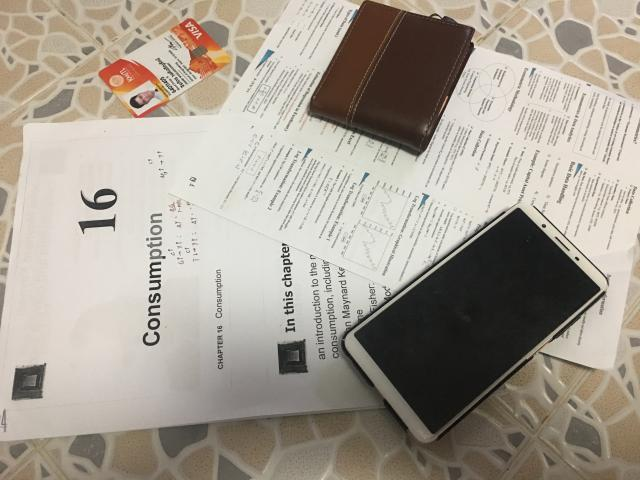Mobile phone: (345, 204, 609, 441)
Wallet: (309, 1, 474, 152)
paper: (172, 1, 640, 369), (0, 116, 390, 441)
